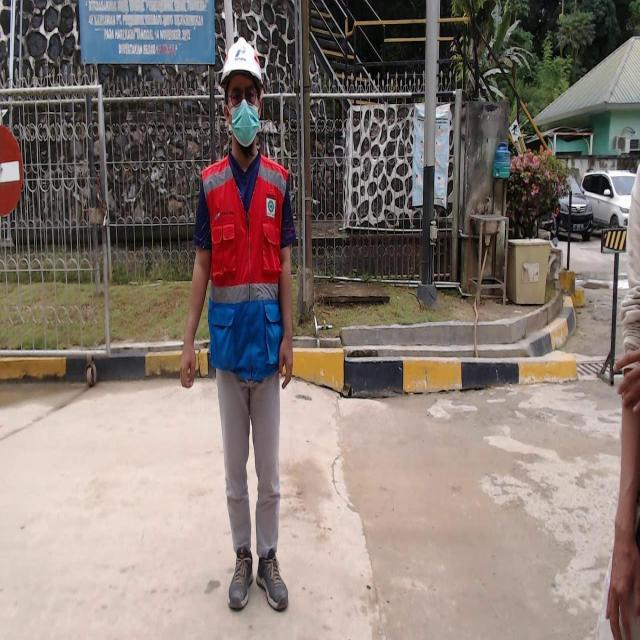helmet: (215, 33, 269, 91)
